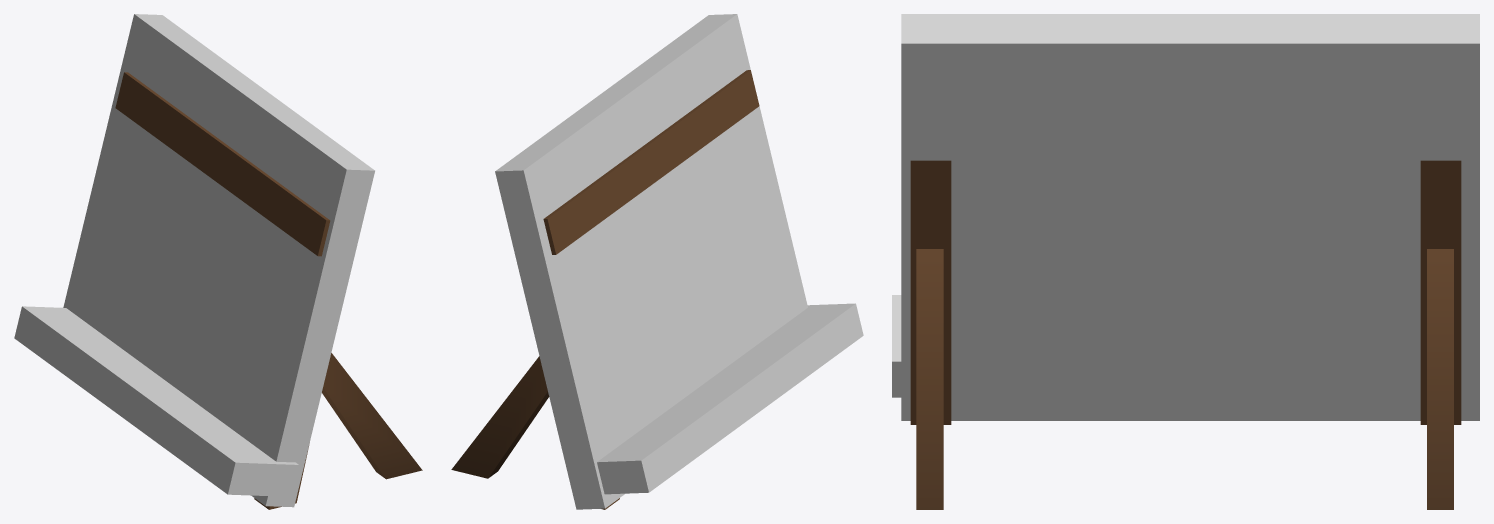
The model's file is weapon_stand.fbx.
3 renders of one model, left to right at view 1: azimuth 30°, elevation 25°; view 2: azimuth 150°, elevation 25°; view 3: azimuth 270°, elevation 25°, orthographic. The views are drawn at different scales.
Visible parts, largest first — view 1: weapon_stand_coll_1, weapon_stand_coll_2, weapon_stand; view 2: weapon_stand_coll_1, weapon_stand_coll_2, weapon_stand; view 3: weapon_stand_coll_1, weapon_stand, weapon_stand_coll_2.
Boxes of the visible parts, x1,y1,x2,y2 form: weapon_stand_coll_1: (63,14,374,507); weapon_stand_coll_2: (14,306,298,496); weapon_stand: (115,72,422,509); weapon_stand_coll_1: (495,14,807,509); weapon_stand_coll_2: (597,303,863,494); weapon_stand: (451,70,759,509); weapon_stand_coll_1: (901,14,1479,420); weapon_stand: (910,160,1461,509); weapon_stand_coll_2: (892,295,901,397).
Bounding box in the file's own units: 1.68 × 2.55 × 3.08.
